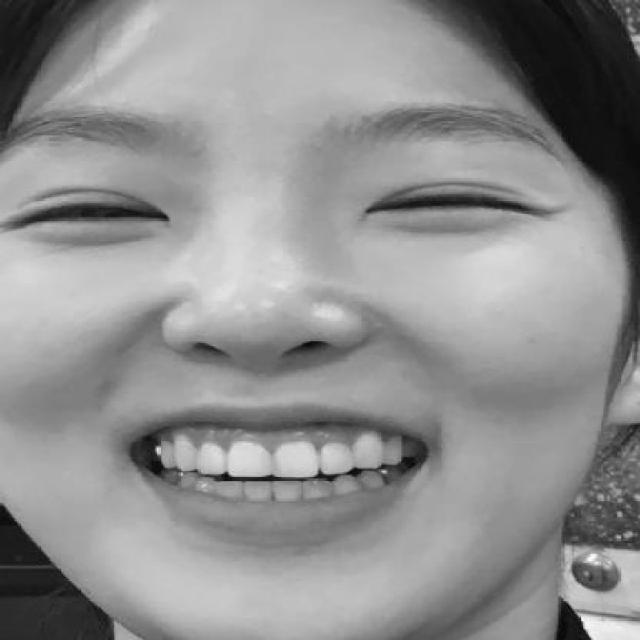happy: (0, 95, 589, 571)
